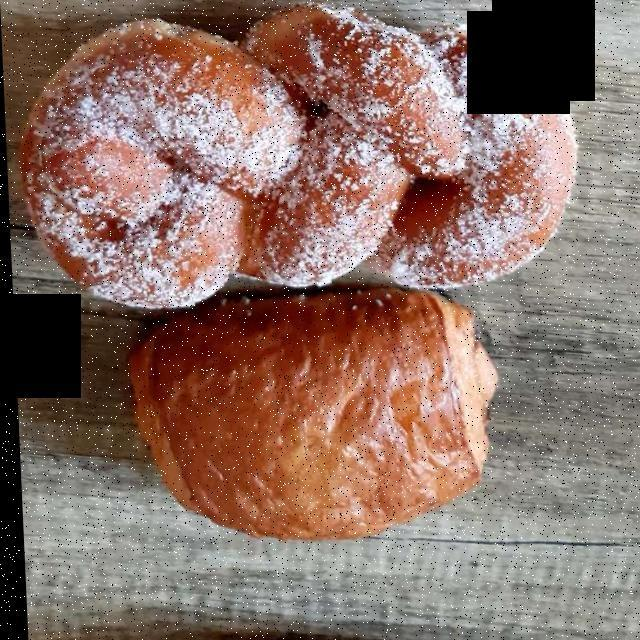bread: (124, 293, 490, 537)
